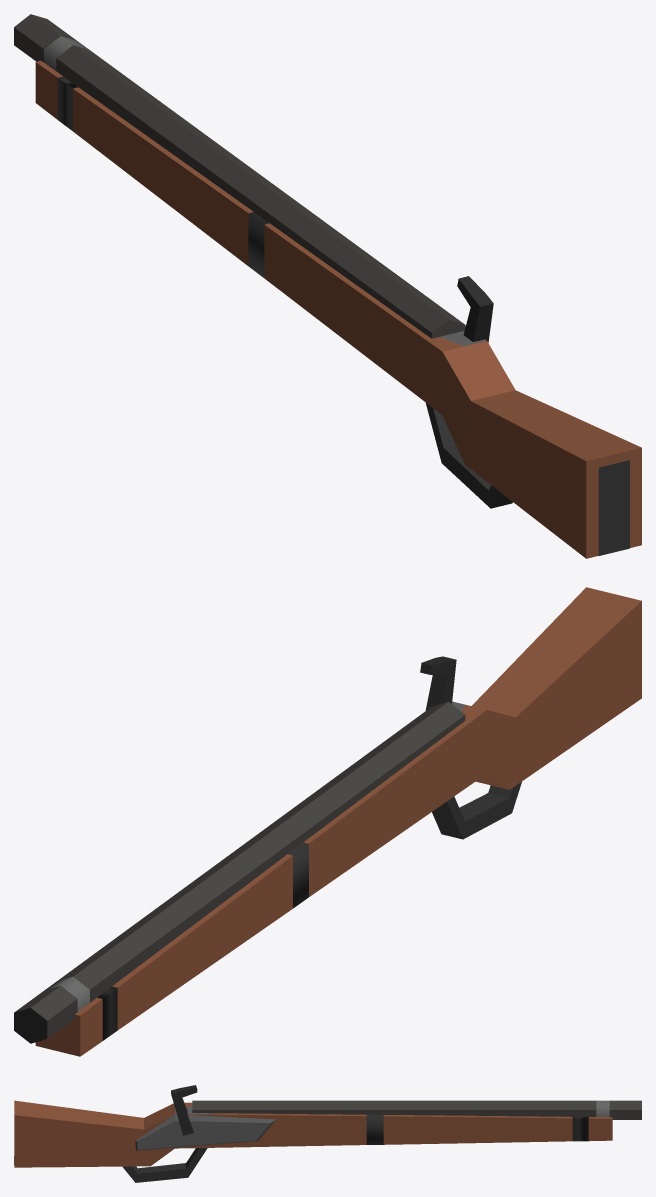
Rendered from gun_LOW.fbx.
The picture shows the model from 3 angles, top to bottom: view 1: azimuth 30°, elevation 25°; view 2: azimuth 150°, elevation 25°; view 3: azimuth 270°, elevation 25°; orthographic projection. The views are drawn at different scales.
Parts seen in each view (by area): view 1: gun.006; view 2: gun.006; view 3: gun.006.
Part boxes in pixels (x1,y1,x2,y2): gun.006: [14, 14, 641, 558]; gun.006: [14, 587, 641, 1056]; gun.006: [14, 1085, 641, 1182].
Size of the model in its own units: 10.53 by 33.1 by 191.
